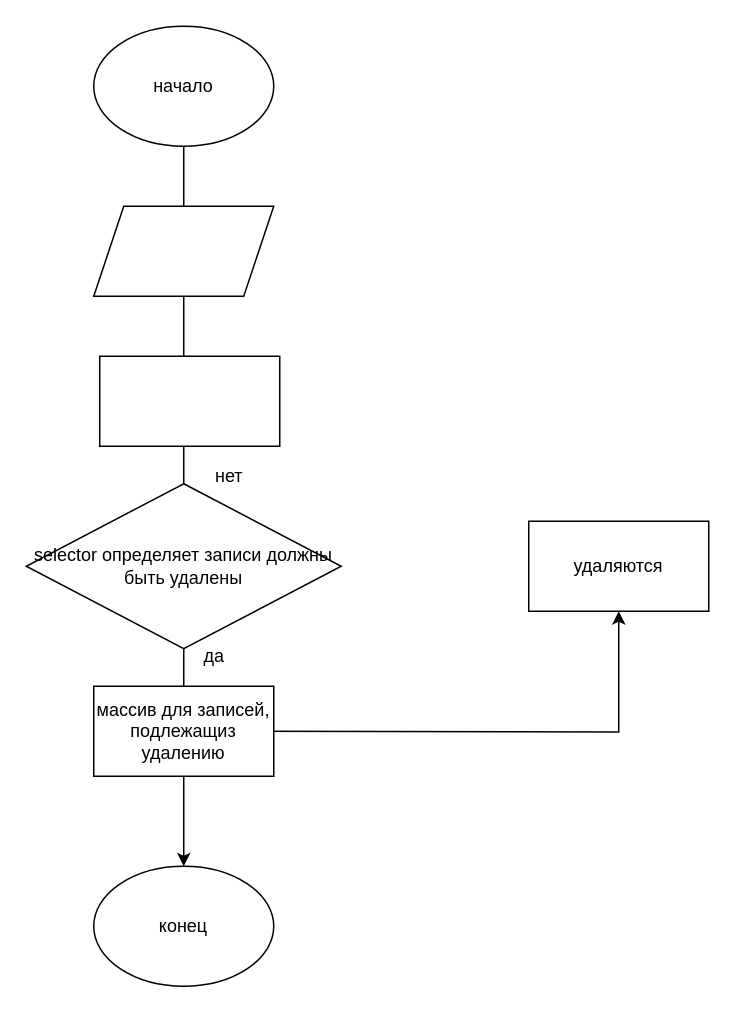
The diagram is 735 pixels wide and 1013 high, and some of its shapes have lost their labels. Each missing label, with the centre of its shape:
"новый CSV копирует все записи из оригинального CSV" goes at point 189,400.
"создание нового CSV" goes at point 183,250.
